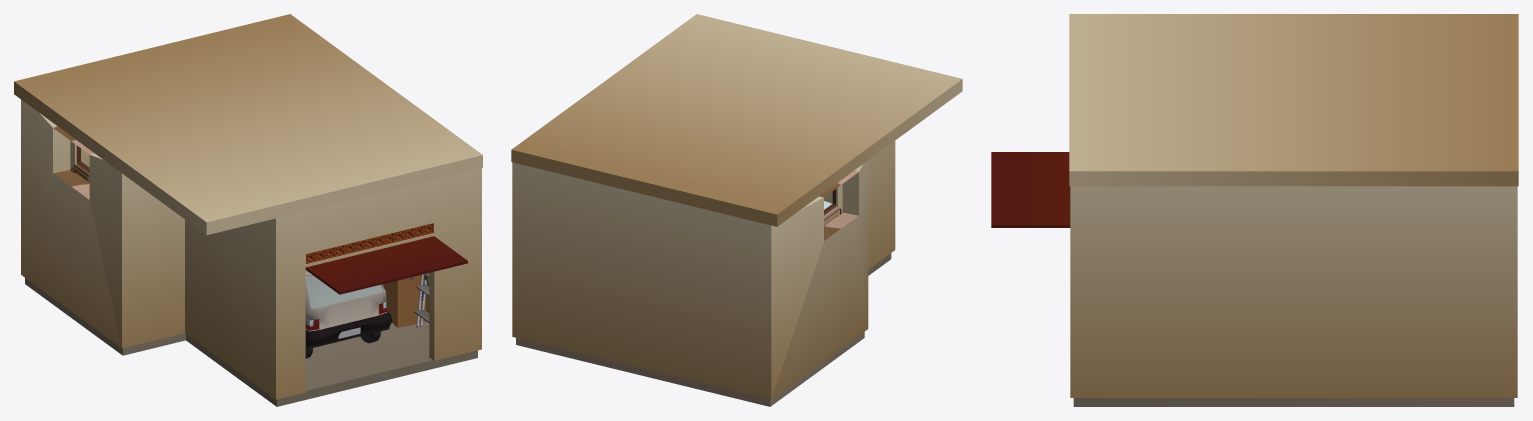
Rendered from garagem.glb.
3 renders of one model, left to right at view 1: azimuth 30°, elevation 25°; view 2: azimuth 150°, elevation 25°; view 3: azimuth 270°, elevation 25°, orthographic. The views are drawn at different scales.
Visible parts, largest first — view 1: paredes, paredes.001, paredes.002, portao, carro, caixa2.001, tijolo_perfurado, Escada.001; view 2: paredes, paredes.001, paredes.002; view 3: paredes, paredes.001, portao, paredes.002.
Boxes of the visible parts, left/top/right/bottom form: paredes: left=21, top=99, right=481, bottom=399; paredes.001: left=14, top=14, right=482, bottom=235; paredes.002: left=25, top=278, right=477, bottom=406; portao: left=305, top=236, right=467, bottom=294; carro: left=305, top=270, right=392, bottom=358; caixa2.001: left=382, top=274, right=425, bottom=327; tijolo_perfurado: left=306, top=223, right=433, bottom=263; Escada.001: left=414, top=274, right=429, bottom=327; paredes: left=512, top=141, right=895, bottom=399; paredes.001: left=511, top=14, right=962, bottom=226; paredes.002: left=516, top=253, right=891, bottom=406; paredes: left=1070, top=186, right=1517, bottom=397; paredes.001: left=1069, top=14, right=1518, bottom=186; portao: left=991, top=152, right=1070, bottom=227; paredes.002: left=1073, top=398, right=1514, bottom=406.
Size of what is drawn, in the model's own units: 4.46 by 3.09 by 6.21.
8 materials, 7 textured.
